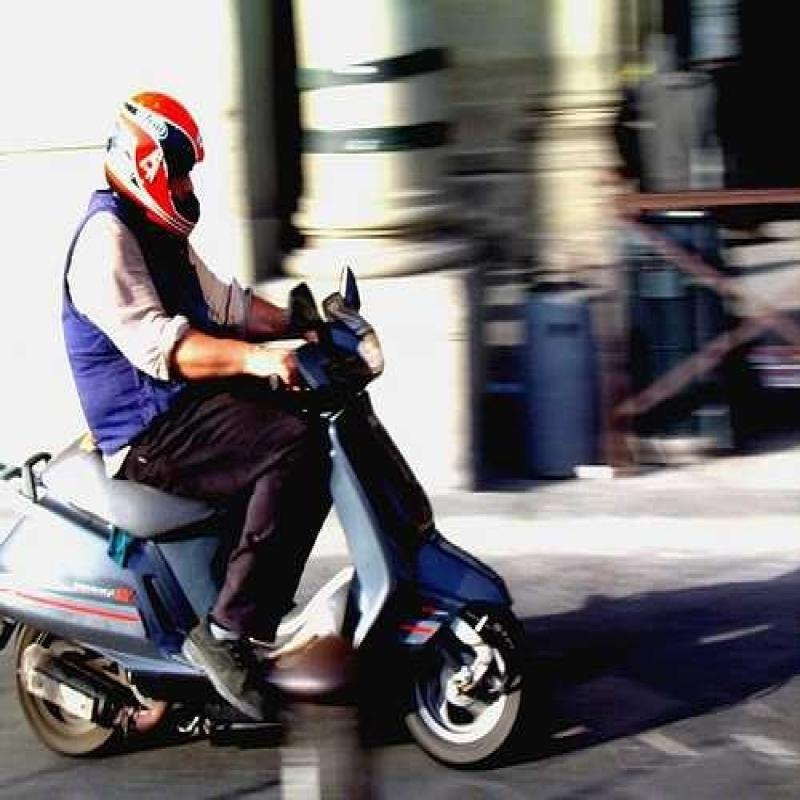bike: (4, 269, 534, 793)
